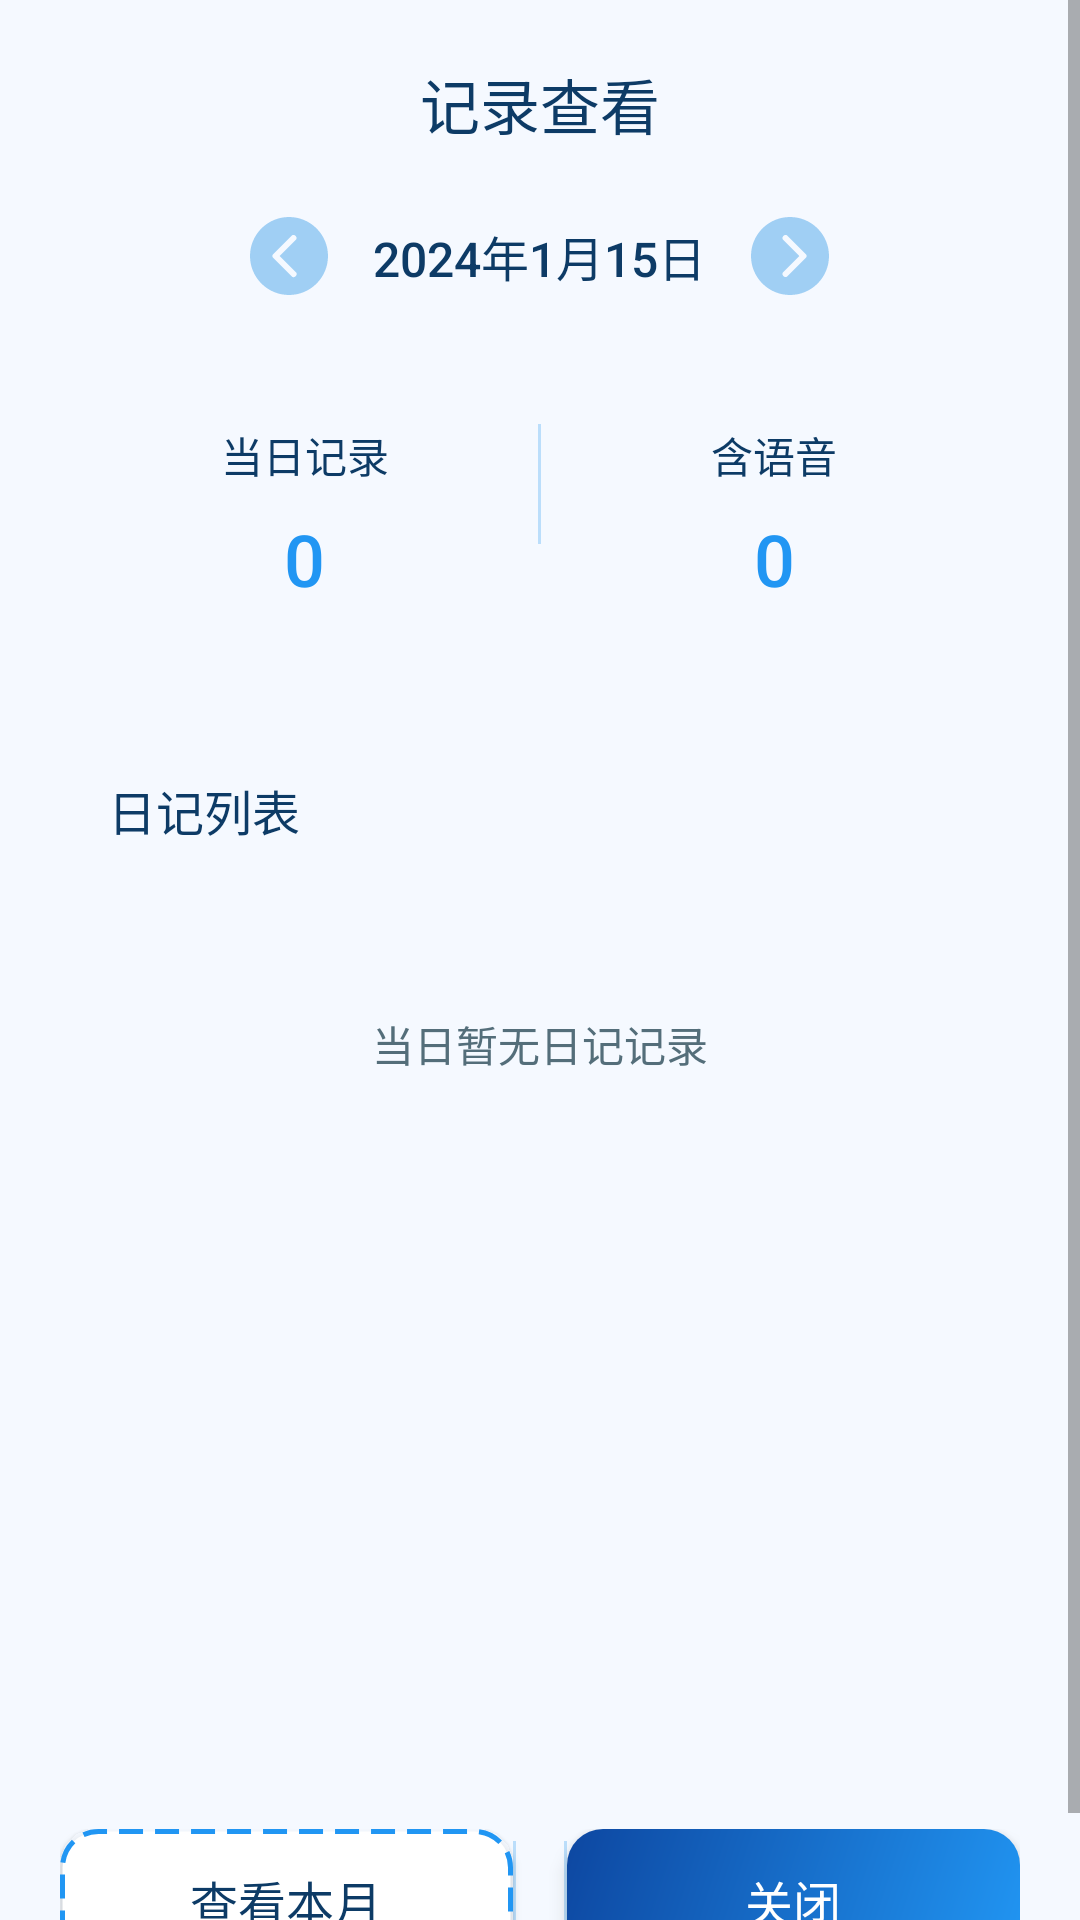

Named icons in this screenshot (1080x1920) and their bounding boxes, (x1, y1, x2, y2):
circle left: (250, 217, 328, 295)
circle right: (751, 217, 829, 295)
